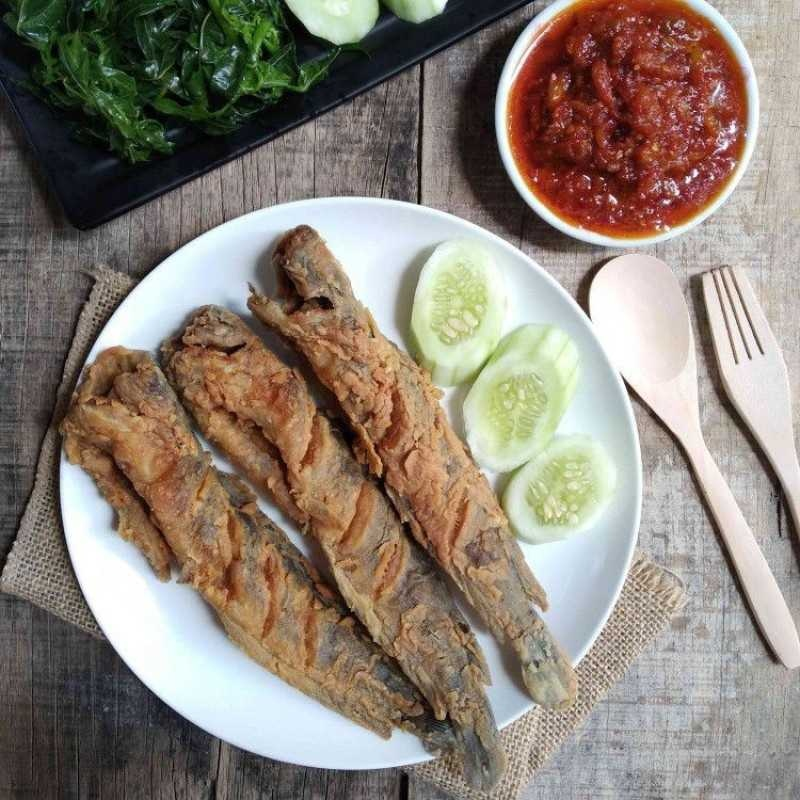pecel_lele: (136, 309, 492, 725), (40, 353, 441, 722)
